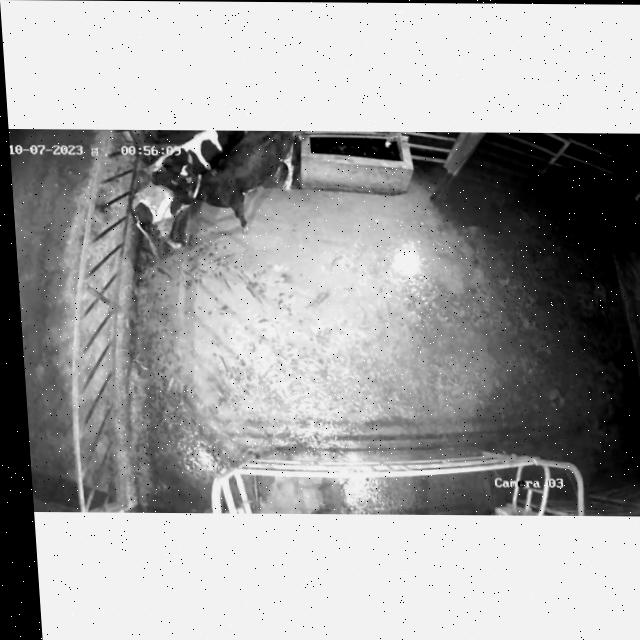propping: (144, 157, 230, 210)
